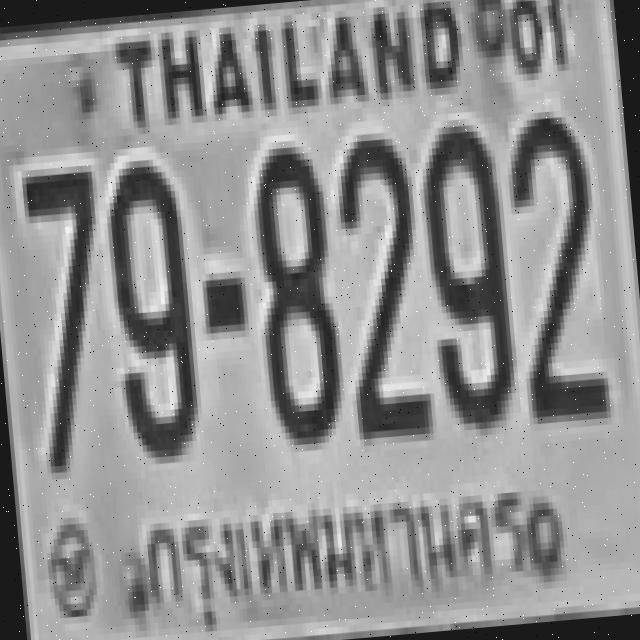2: (500, 109, 604, 418), (331, 127, 431, 436)
7: (17, 165, 112, 466), (17, 165, 107, 408)
8: (244, 138, 340, 440)
9: (414, 117, 514, 426), (101, 154, 200, 456)
Bangkok: (126, 469, 540, 640)
